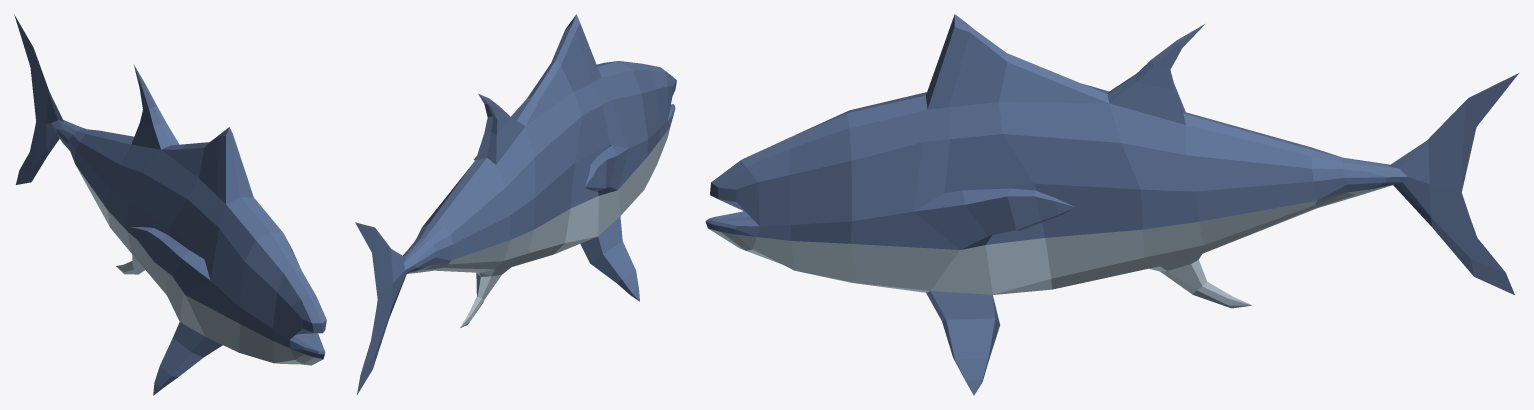
Rendered from tuna.glb.
3 renders of one model, left to right at view 1: azimuth 30°, elevation 25°; view 2: azimuth 150°, elevation 25°; view 3: azimuth 270°, elevation 25°, orthographic. The views are drawn at different scales.
Parts seen in each view (by area): view 1: Tuna; view 2: Tuna; view 3: Tuna.
Part boxes in pixels (left/top/right/bottom): Tuna: left=14, top=14, right=326, bottom=395; Tuna: left=355, top=14, right=676, bottom=394; Tuna: left=705, top=14, right=1518, bottom=395.
Bounding box in the file's own units: 0.466 × 0.8318 × 1.82.
